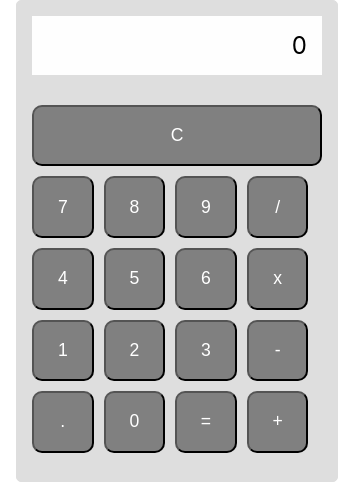
Scenario: Calculator › Do the number buttons update the display of the running total
The image size is (355, 499).
Click the button with id "number2": (135, 351) [104,320,166,382]
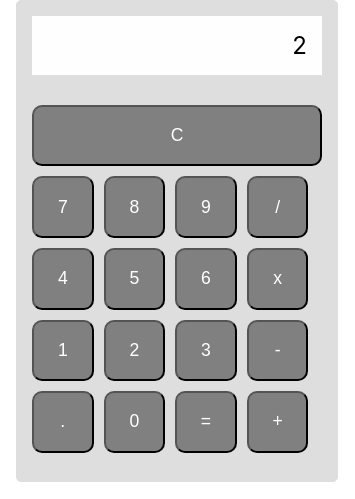
Click the button with id "number2": (135, 351) [104,320,166,382]
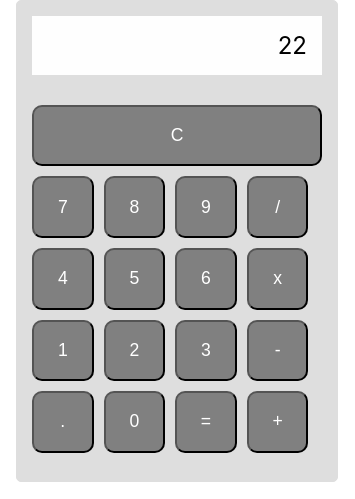
Result: the text with class "display" reads "22" at [278,31,307,60]
